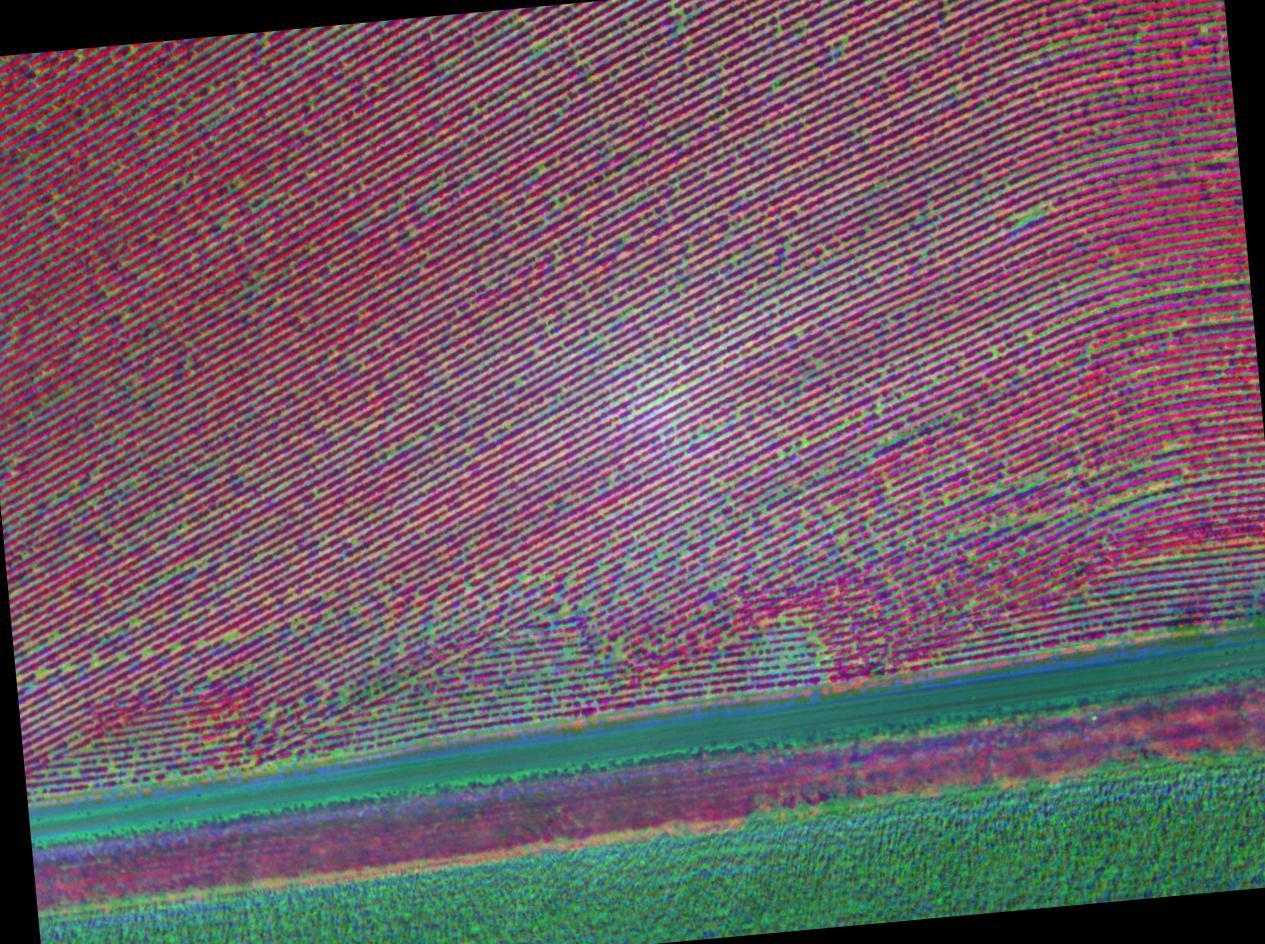dc: (1031, 477, 1043, 486), (1005, 514, 1015, 524), (1029, 209, 1039, 217), (533, 41, 541, 50), (538, 163, 545, 172), (1166, 442, 1175, 449), (796, 327, 802, 337), (991, 520, 997, 530), (146, 515, 155, 520), (38, 672, 47, 677), (673, 9, 681, 14)
